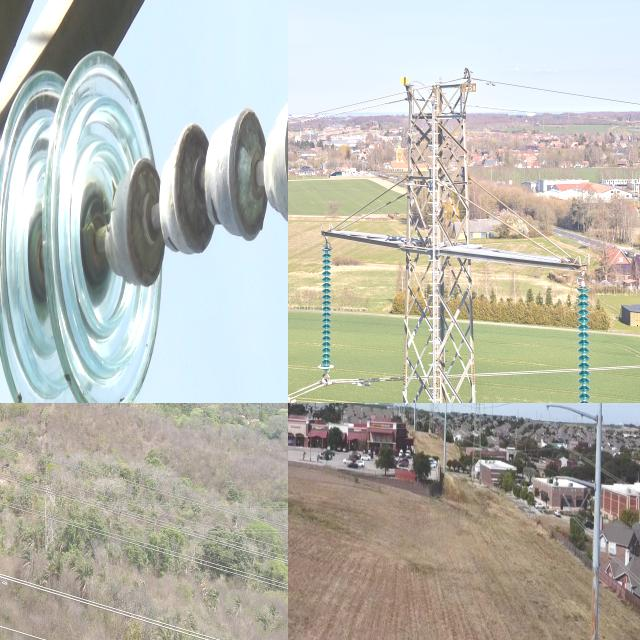杆塔: (397, 73, 475, 403), (468, 403, 488, 487), (426, 403, 438, 437)
正常电缆: (474, 176, 567, 258), (487, 74, 640, 115), (472, 197, 551, 259), (288, 88, 406, 129), (333, 175, 405, 229), (343, 190, 407, 232), (288, 375, 318, 403)
正常绝缘子: (0, 11, 288, 403), (573, 265, 597, 403), (318, 235, 335, 394), (570, 487, 592, 524), (551, 413, 570, 455), (561, 418, 583, 454), (560, 488, 578, 523), (482, 403, 486, 417), (469, 403, 472, 414)
绝缘子破损: (224, 110, 282, 240), (168, 121, 219, 254), (126, 149, 173, 290)
